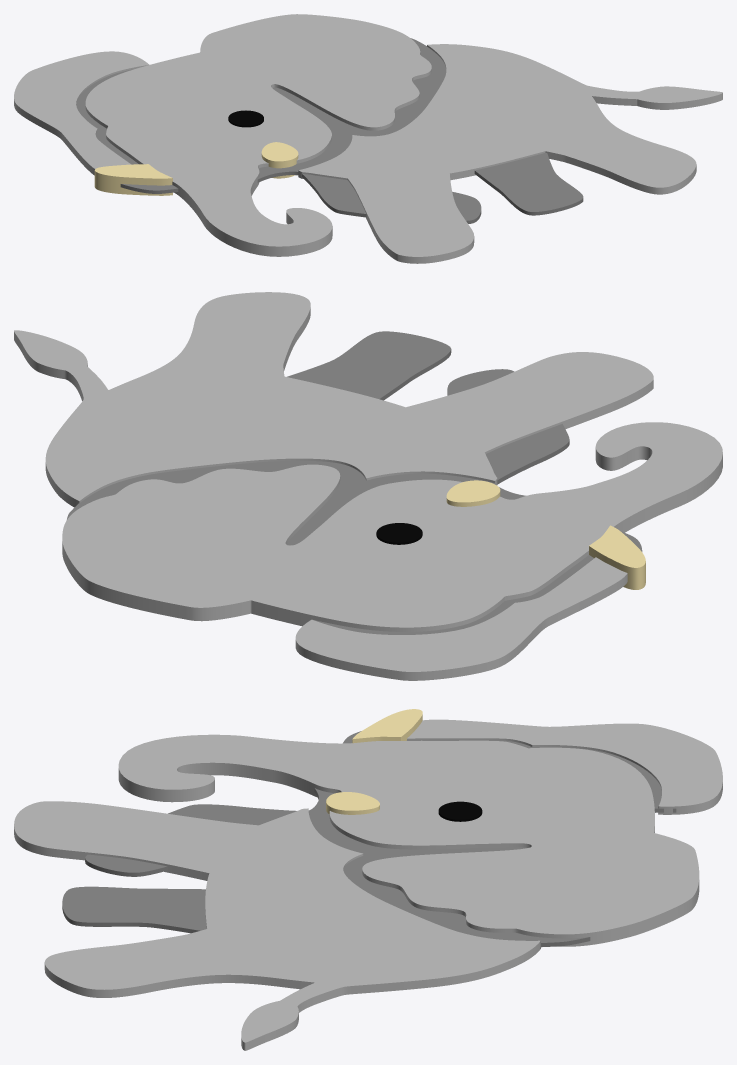
The model's file is emoji_u1f418.glb.
3 views of the same model, one above another, from view 1: azimuth 30°, elevation 25°; view 2: azimuth 150°, elevation 25°; view 3: azimuth 270°, elevation 25° (orthographic). The views are drawn at different scales.
Parts seen in each view (by area): view 1: emoji_u1f418; view 2: emoji_u1f418; view 3: emoji_u1f418.
Part boxes in pixels (left/top/right/bottom): emoji_u1f418: left=14, top=14, right=722, bottom=263; emoji_u1f418: left=14, top=292, right=722, bottom=680; emoji_u1f418: left=14, top=709, right=722, bottom=1050.
Size of the model in its own units: 0.034 by 0.001 by 0.0311.
